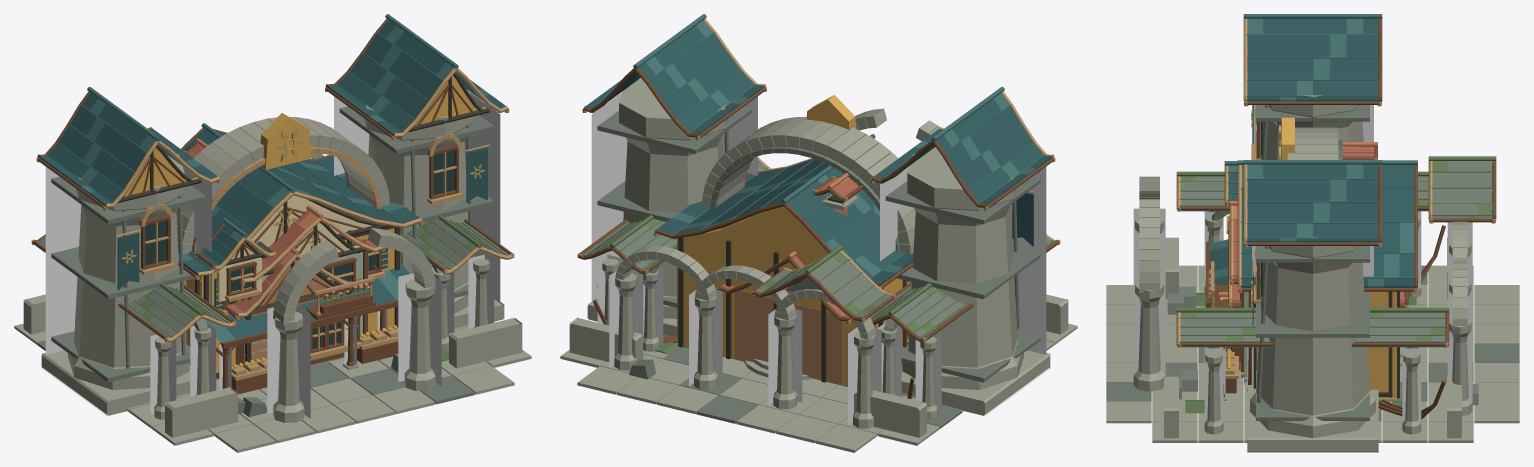
Rendered from architecture.glb.
3 views of the same model, side by side, from view 1: azimuth 30°, elevation 25°; view 2: azimuth 150°, elevation 25°; view 3: azimuth 270°, elevation 25° (orthographic).
Parts seen in each view (by area): view 1: BLD_starroot__stone, BLD_gate__stone, BLD_gate__teal, COL_gate, BLD_market__teal, BLD_gate__stone_dark, BLD_starroot__stone_dark, BLD_market__wood, BLD_gate__lightwood, BLD_gate__teal_light, BLD_gate__ochre, BLD_gate__wood (+25 smaller); view 2: BLD_gate__stone, BLD_starroot__stone, BLD_gate__teal, COL_gate, BLD_gate__stone_dark, BLD_starroot__stone_dark, BLD_market__ochre, BLD_market__teal, BLD_workshop__brick, BLD_gate__teal_light, BLD_starroot__moss, BLD_market__teal_light (+16 smaller); view 3: BLD_starroot__stone, BLD_gate__stone, BLD_gate__teal, BLD_starroot__stone_dark, BLD_gate__teal_light, BLD_gate__stone_dark, BLD_starroot__moss, BLD_market__teal, BLD_starroot__wood, BLD_gate__wood, BLD_market__teal_light, BLD_market__ochre (+17 smaller).
Part boxes in pixels (x1,y1,x2,y2): BLD_starroot__stone: (14,153,531,452); BLD_gate__stone: (41,89,504,415); BLD_gate__teal: (38,20,505,290); COL_gate: (41,92,504,415); BLD_market__teal: (178,129,419,339); BLD_gate__stone_dark: (51,106,494,382); BLD_starroot__stone_dark: (35,219,509,417); BLD_market__wood: (178,128,398,394); BLD_gate__lightwood: (36,68,509,275); BLD_gate__teal_light: (46,14,492,203); BLD_gate__ochre: (124,76,485,196); BLD_gate__wood: (37,18,473,269); BLD_gate__stone: (587,79,1050,415); BLD_starroot__stone: (560,108,1077,452); BLD_gate__teal: (586,25,1052,246); COL_gate: (587,78,1050,415); BLD_gate__stone_dark: (597,106,1040,382); BLD_starroot__stone_dark: (582,160,1056,428); BLD_market__ochre: (677,206,902,385); BLD_market__teal: (657,159,913,285); BLD_workshop__brick: (735,208,847,384); BLD_gate__teal_light: (599,14,1045,203); BLD_starroot__moss: (584,160,1053,354); BLD_market__teal_light: (672,134,905,278); BLD_starroot__stone: (1106,176,1519,442); BLD_gate__stone: (1247,95,1378,452); BLD_gate__teal: (1246,18,1380,325); BLD_starroot__stone_dark: (1106,161,1519,421); BLD_gate__teal_light: (1243,14,1382,242); BLD_gate__stone_dark: (1256,105,1369,420); BLD_starroot__moss: (1176,156,1496,414); BLD_market__teal: (1209,165,1415,287); BLD_starroot__wood: (1179,161,1496,419); BLD_gate__wood: (1246,18,1382,299); BLD_market__teal_light: (1209,160,1417,287); BLD_market__ochre: (1226,291,1396,398).
Size of the model in its own units: 20.4 by 12.88 by 17.96.
